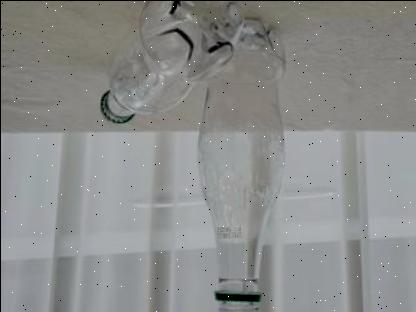Plastic Bottle: (198, 17, 286, 306)
